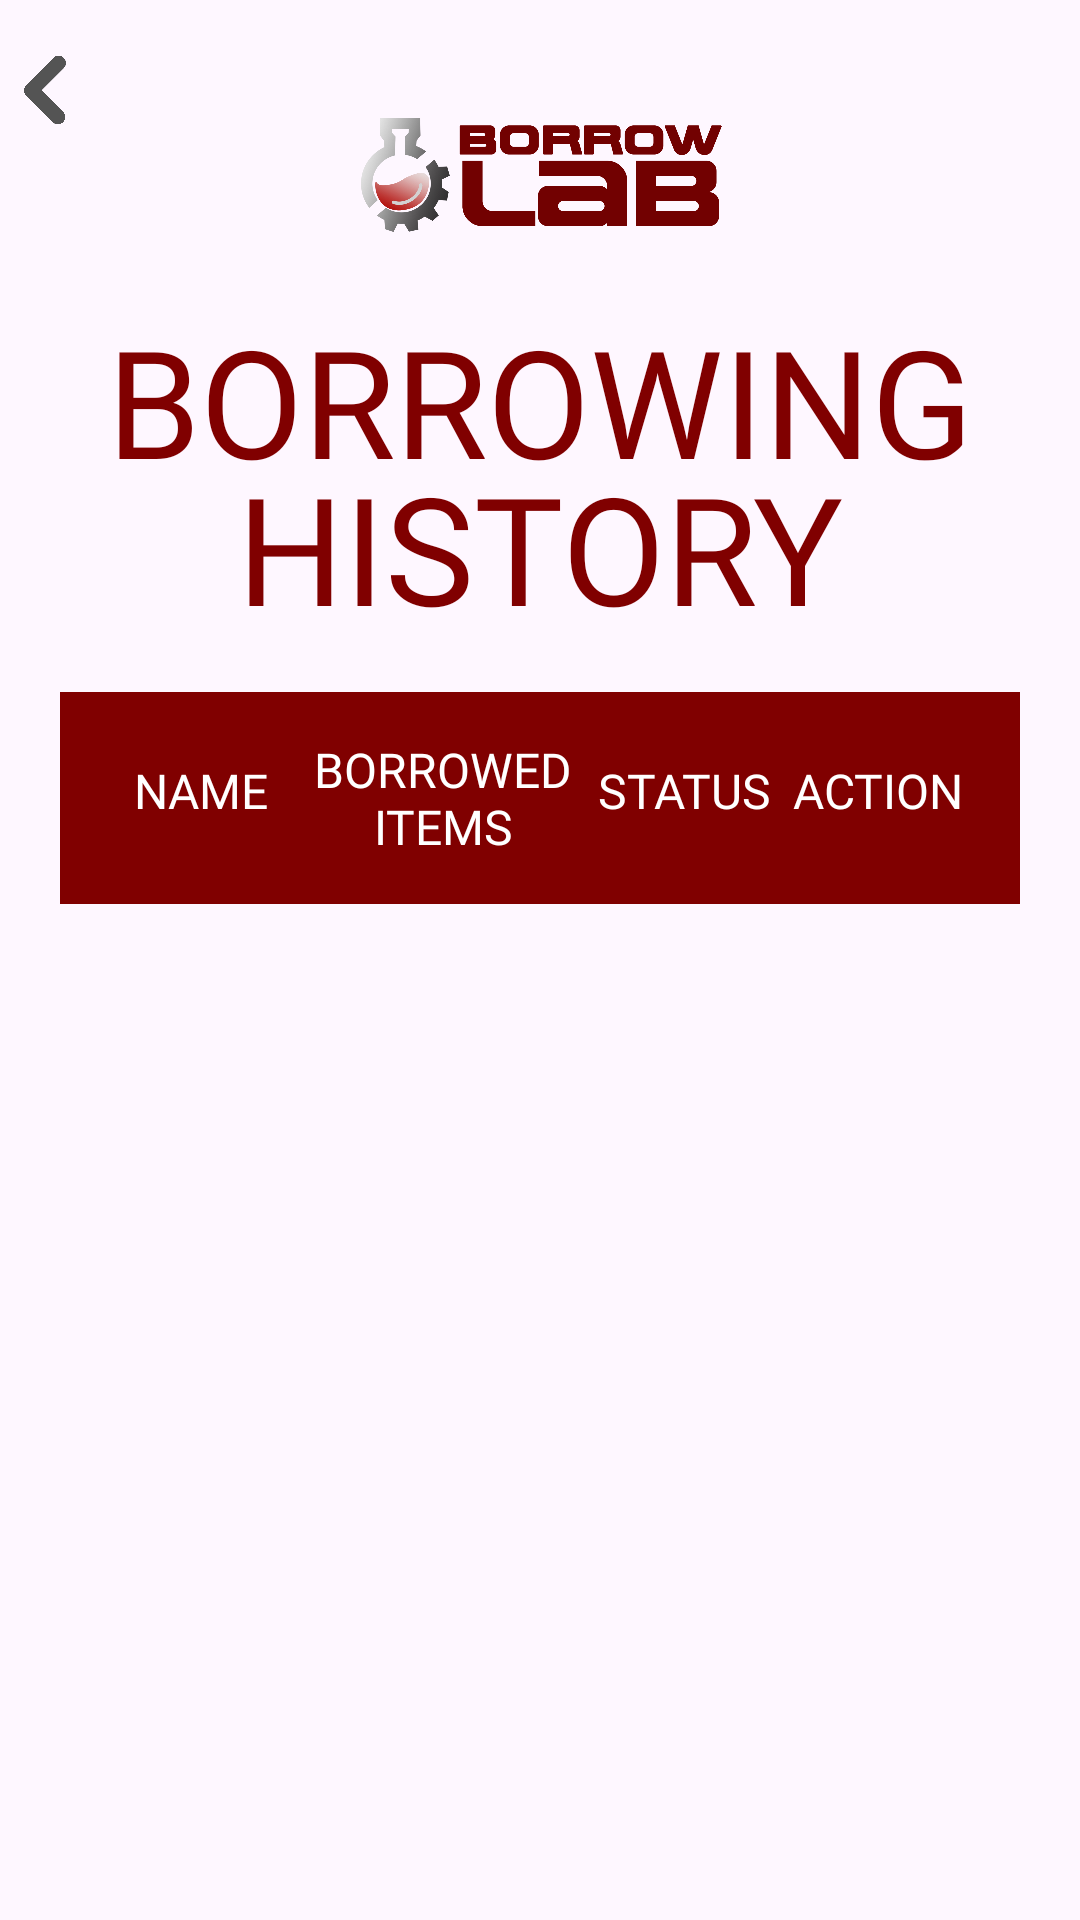

Icon bounding boxes for this 1080 × 1920 phone screenshot, format [x1,y1,x2,y2]:
Back Button: [24,56,66,124]
